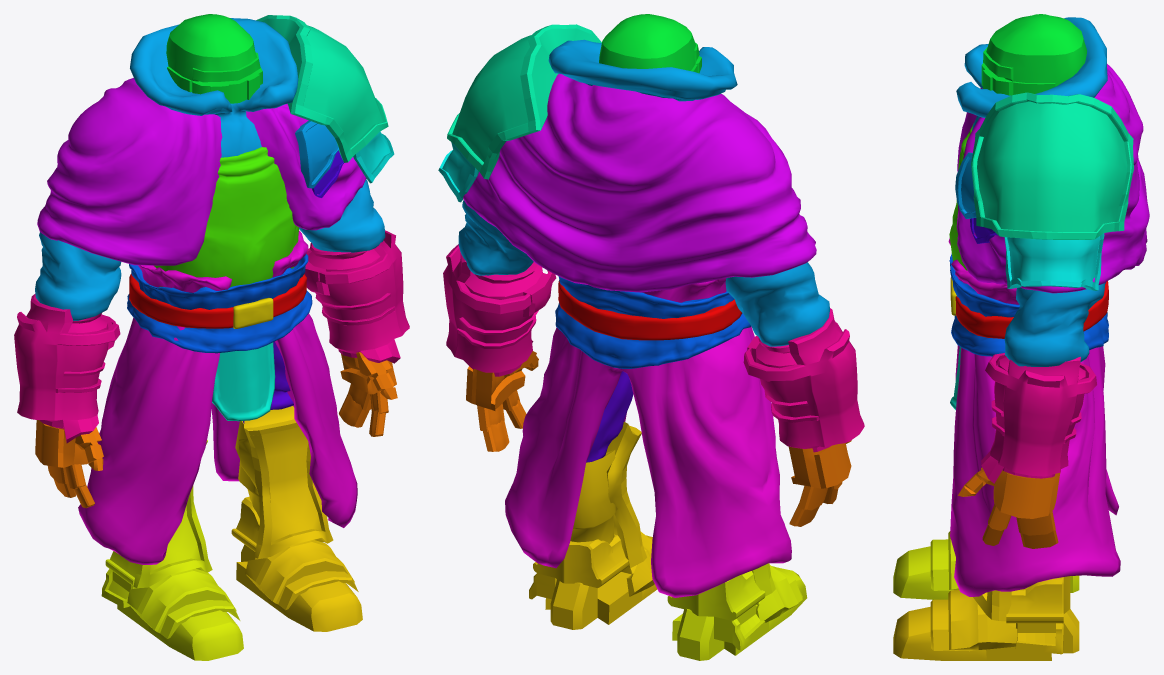
The model's file is SM_Soldier_Reference.fbx.
3 views of the same model, side by side, from view 1: azimuth 30°, elevation 25°; view 2: azimuth 150°, elevation 25°; view 3: azimuth 270°, elevation 25° (orthographic). The views are drawn at different scales.
Parts seen in each view (by area): view 1: Soldier_Reference; view 2: Soldier_Reference; view 3: Soldier_Reference.
Part boxes in pixels (<box>): Soldier_Reference: <box>14,14,409,660</box>; Soldier_Reference: <box>438,14,864,660</box>; Soldier_Reference: <box>893,14,1149,660</box>.
Bounding box in the file's own units: 144 × 205 × 79.98.
